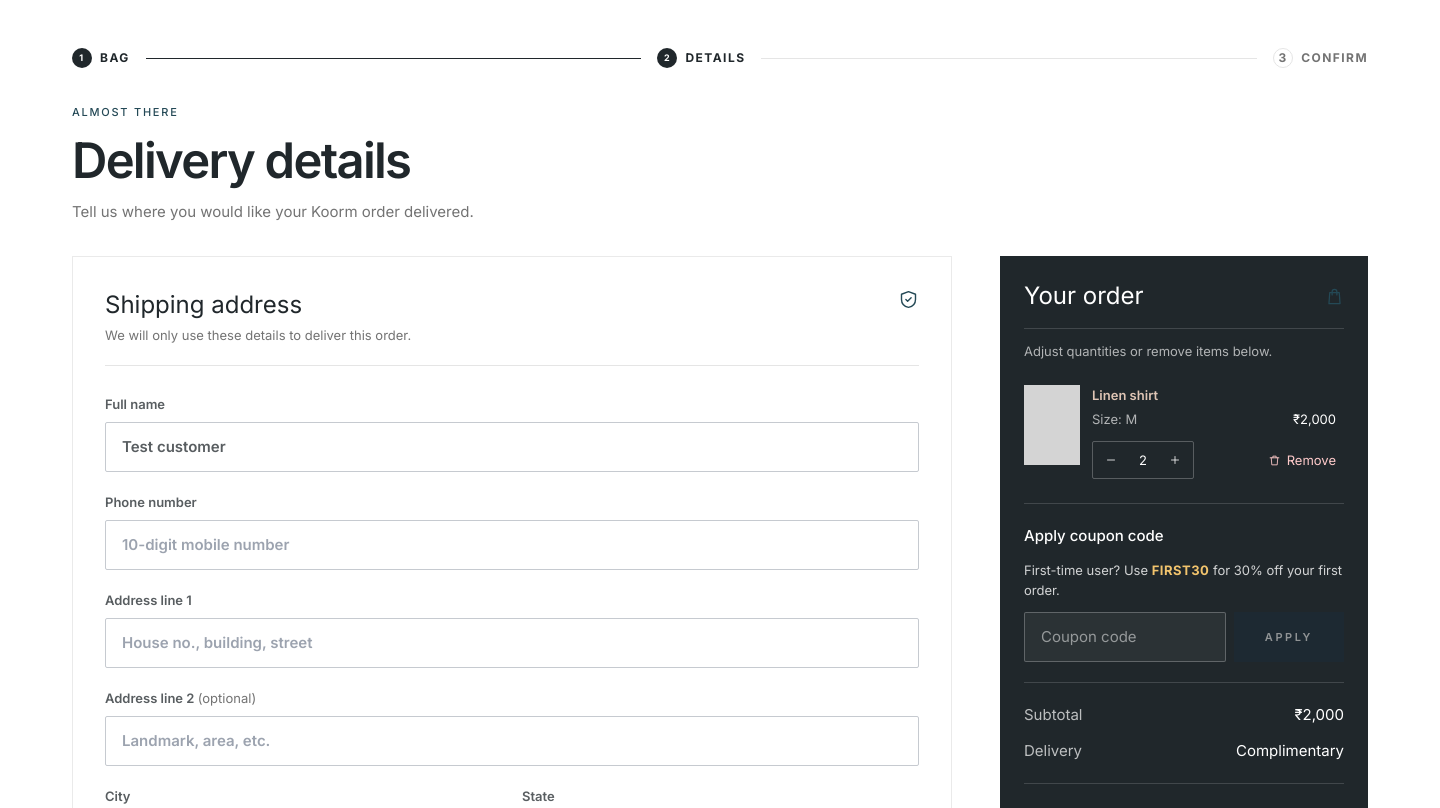
reduces quantity, updates delivery and total, and prevents going below one
The width and height of the screenshot is (1440, 808).
Click the button named "Decrease quantity for Linen shirt, size M" at {"x": 1111, "y": 460}, box [1093, 442, 1129, 478]
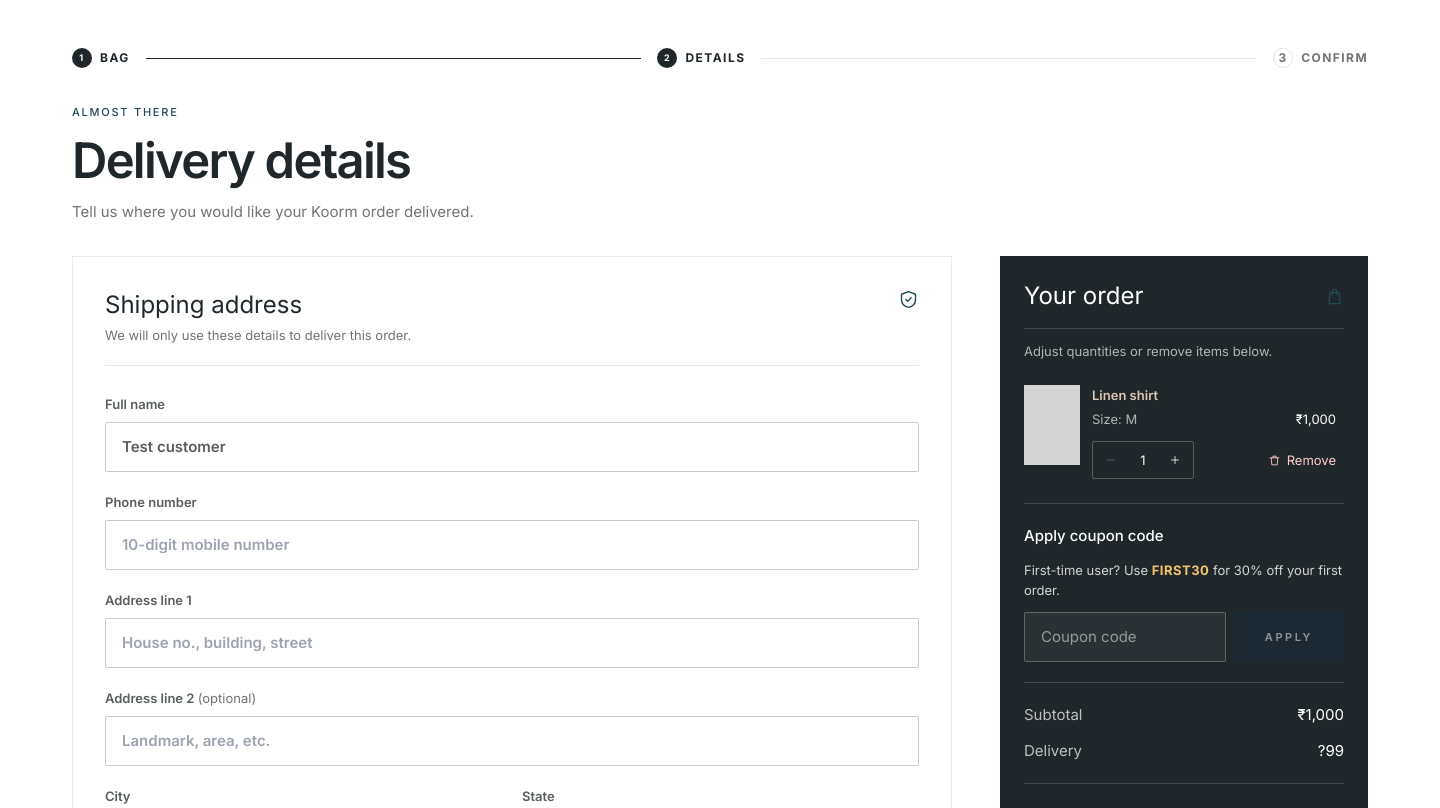
Click the button named "Increase quantity for Linen shirt, size M" at {"x": 1175, "y": 460}, box [1157, 442, 1193, 478]
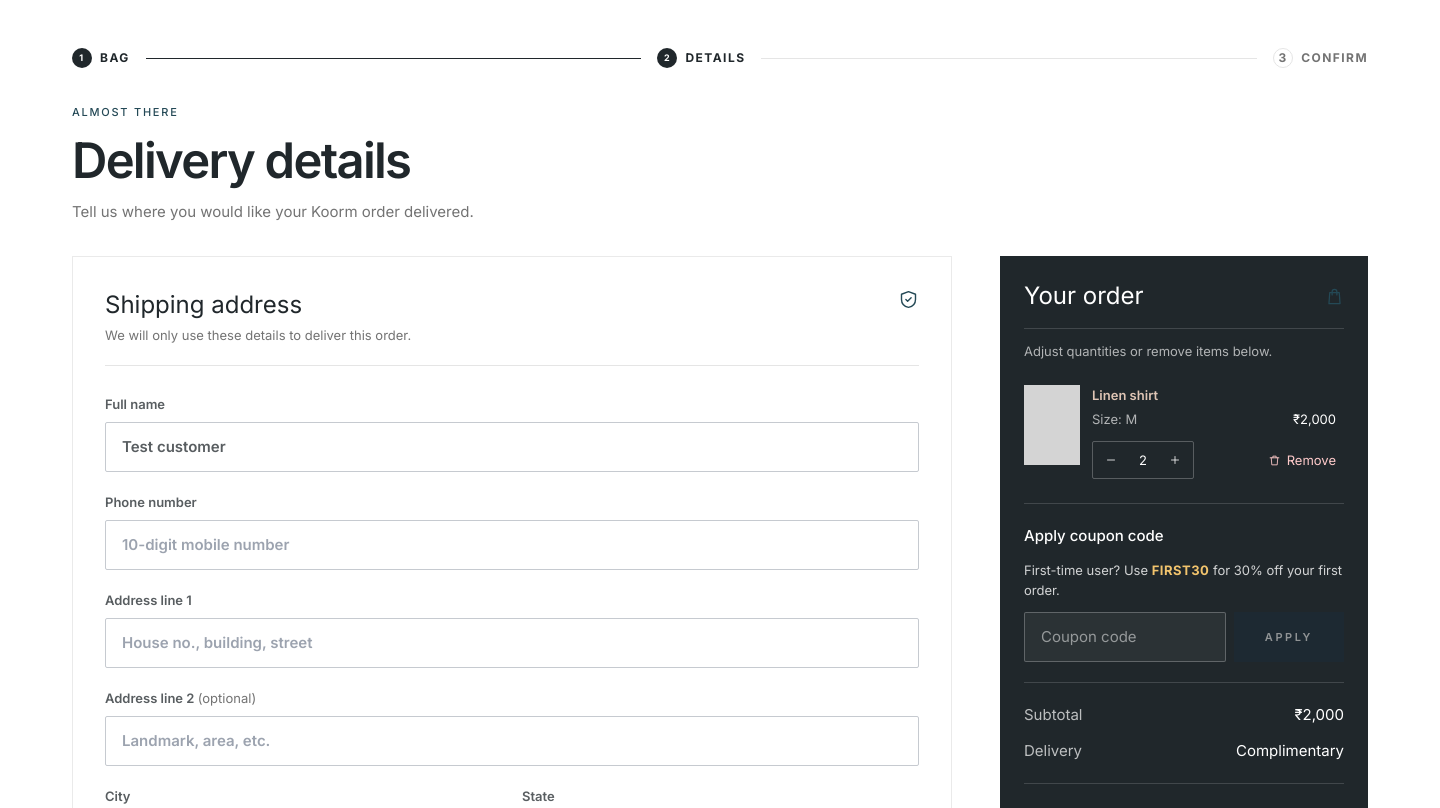
Check: the button named "Decrease quantity for Linen shirt, size M" is enabled, box [1093, 442, 1129, 478]
Check: the text "Complimentary" is shown, box [1236, 739, 1344, 763]
